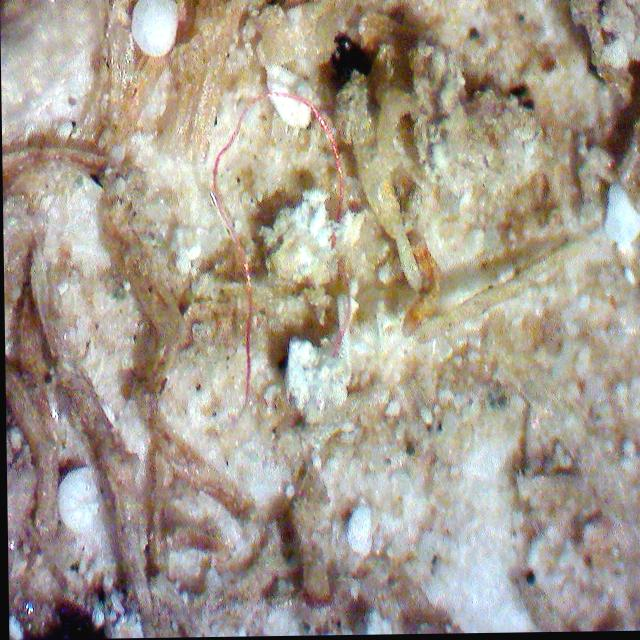microplastic: (205, 86, 361, 408)
